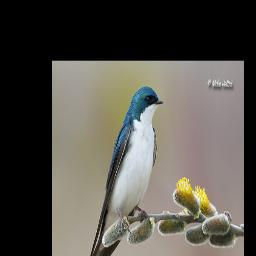Swallow: (85, 86, 164, 256)
